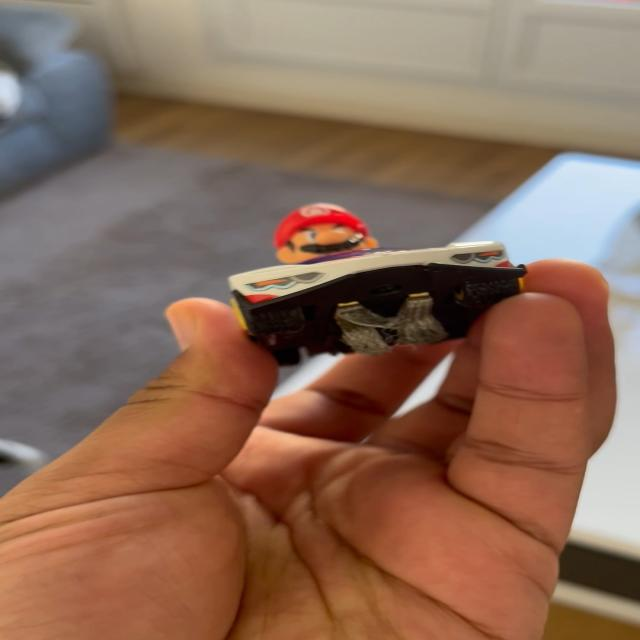mario: (207, 200, 551, 397)
